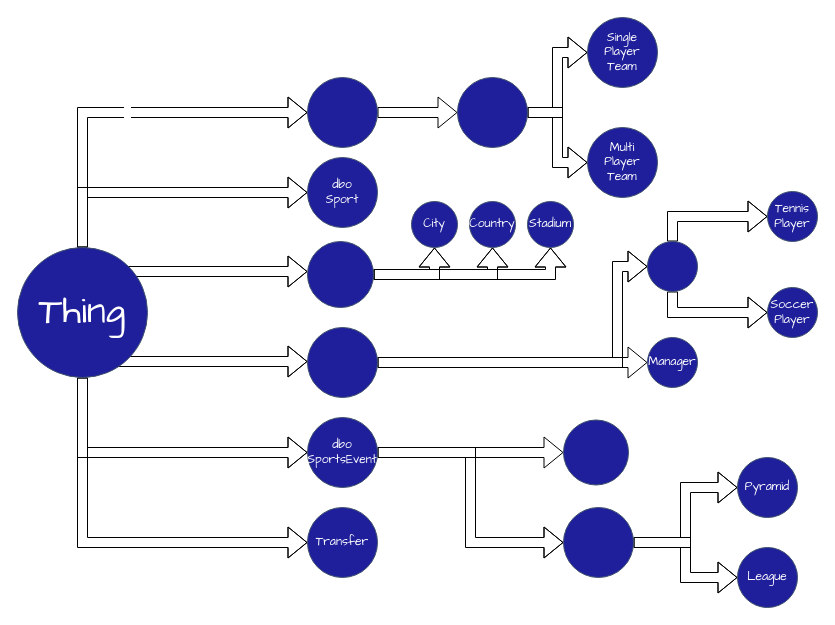
Some shapes in this 835 by 625 pixel diagram are drawn without their labels. Here are the shapes that lost their labels. From the top down, the centre of each, then its label:
At [342,112]: "dbo Organisation".
At [492,112]: "dbo SportsTeam".
At [340,274]: "dbo Place".
At [672,266]: "dbo Athlete".
At [342,362]: "foaf Person".
At [595,452]: "Match".
At [598,542]: "dbo Tournament".
